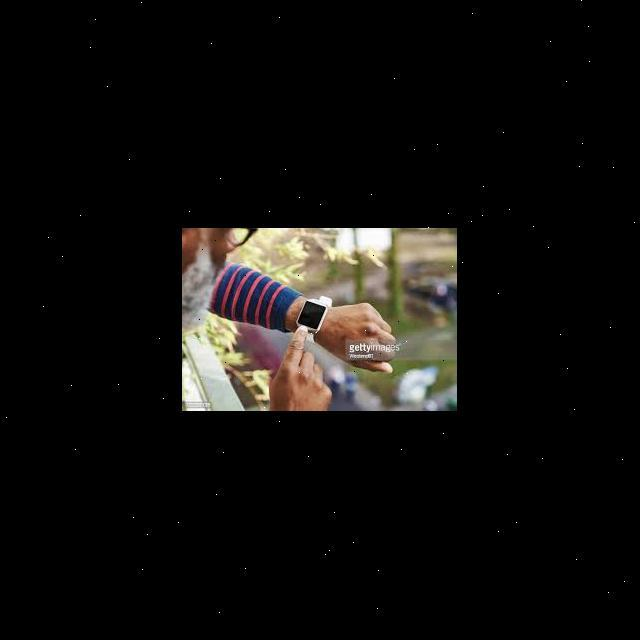watch: (277, 268, 333, 344)
